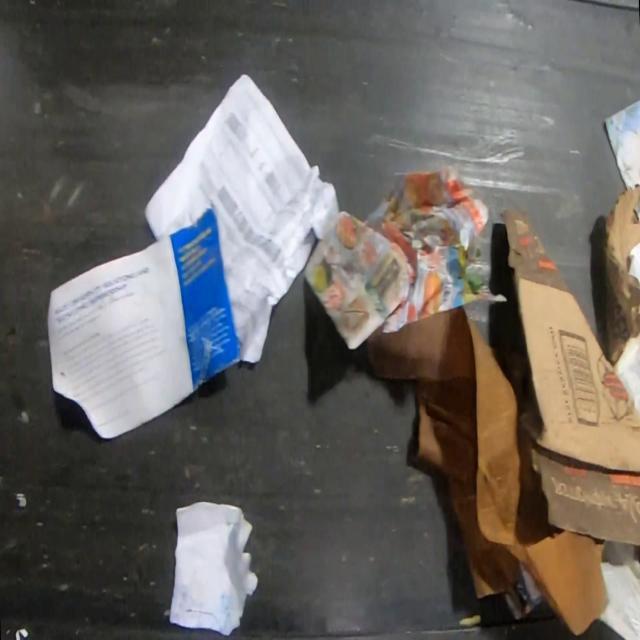cardboard: (362, 304, 610, 637), (502, 208, 640, 546), (601, 183, 640, 367)
